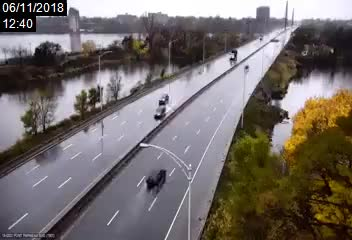personal_car: (143, 166, 169, 187), (151, 105, 168, 119), (157, 93, 170, 107)
truck: (227, 46, 238, 62)
